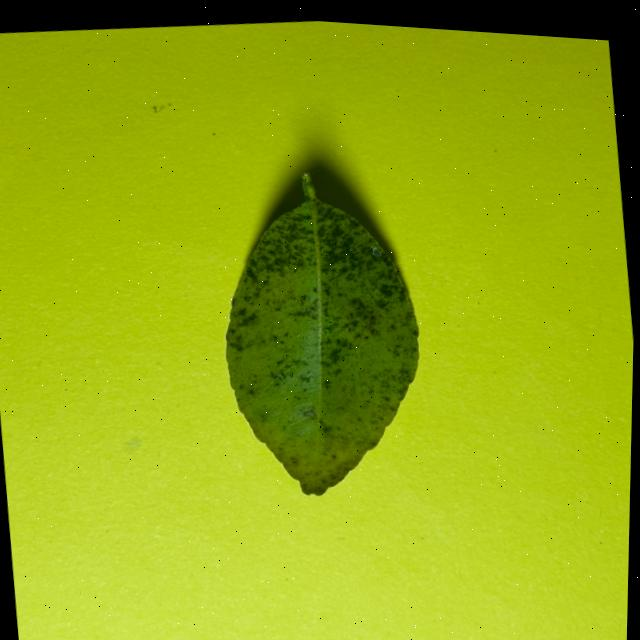sooty_mold: (225, 172, 417, 494)
